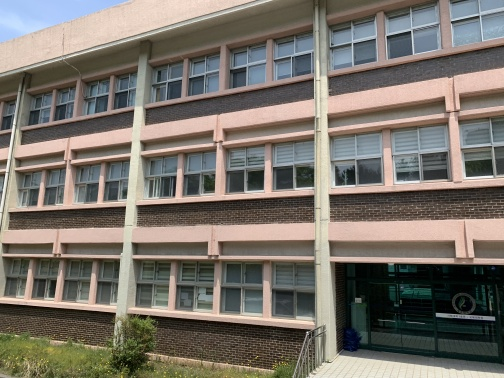College Of Education: (6, 18, 492, 358)
